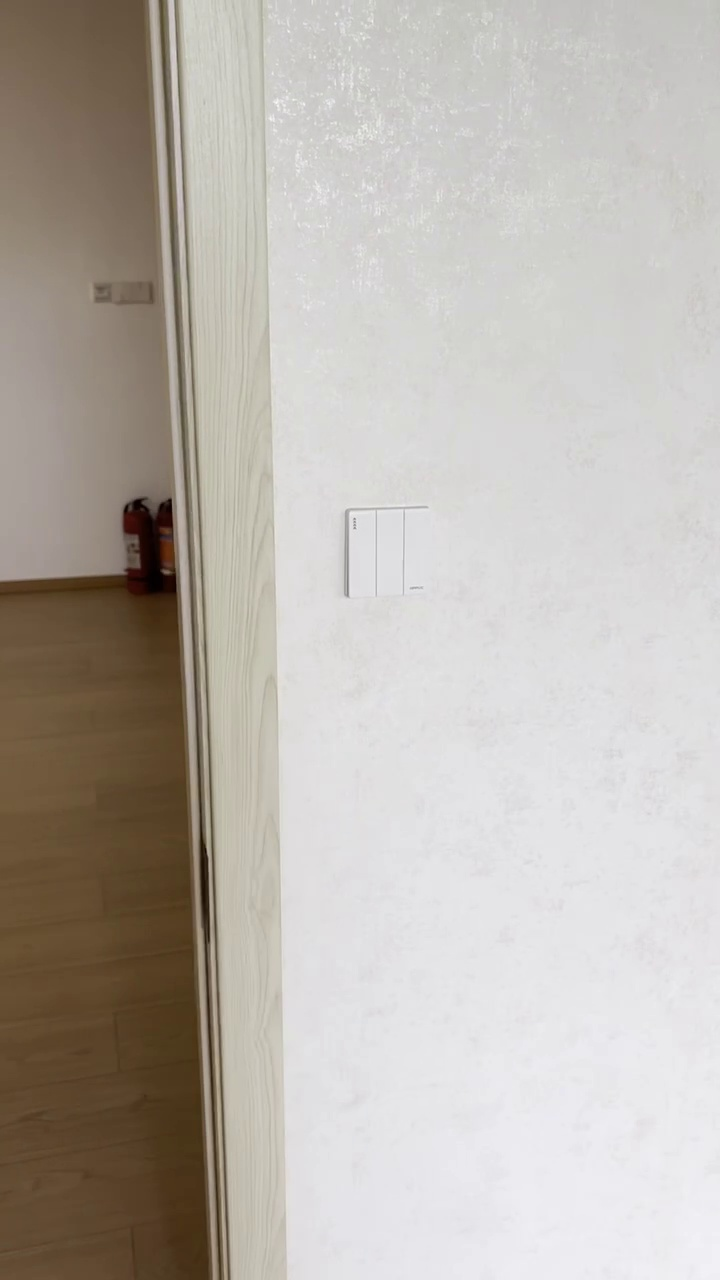button: (342, 497, 440, 608), (111, 279, 156, 308)
